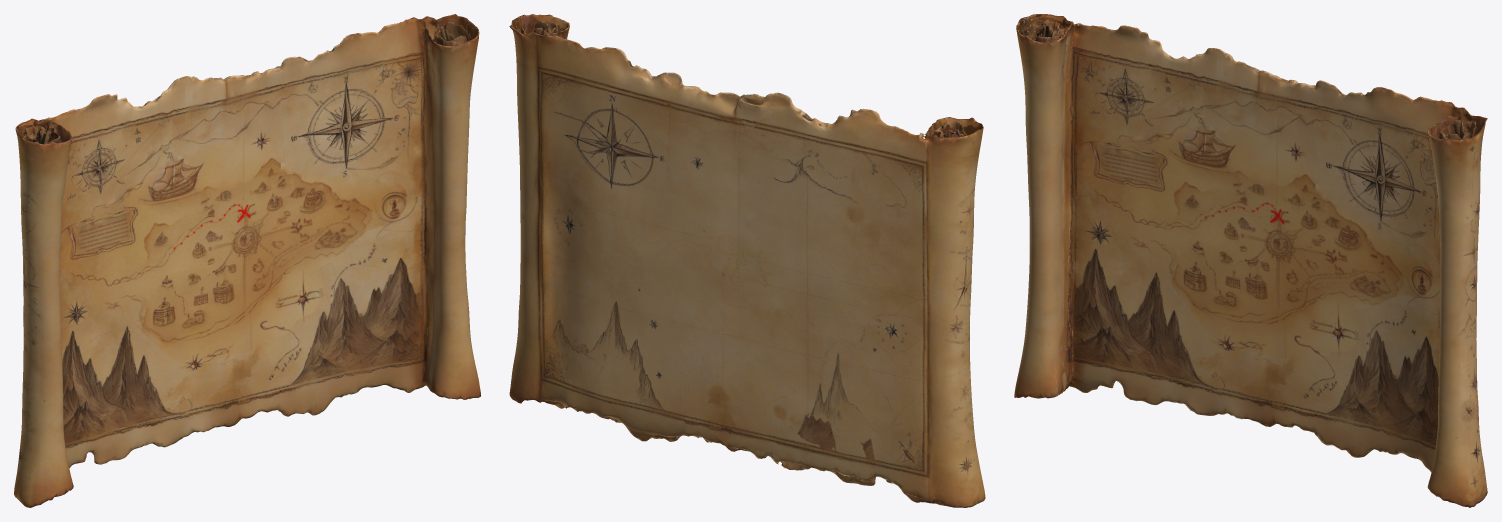
Rendered from TreasureMap.glb.
The picture shows the model from 3 angles, left to right: view 1: azimuth 30°, elevation 25°; view 2: azimuth 150°, elevation 25°; view 3: azimuth 330°, elevation 25°; orthographic projection.
Parts seen in each view (by area): view 1: Mesh_0; view 2: Mesh_0; view 3: Mesh_0.
Boxes of the visible parts, left/top/right/bottom form: Mesh_0: left=14, top=14, right=480, bottom=507; Mesh_0: left=509, top=14, right=985, bottom=507; Mesh_0: left=1014, top=14, right=1487, bottom=507.
Bounding box in the file's own units: 1.99 × 1.57 × 0.2597.
1 material, 1 textured.
